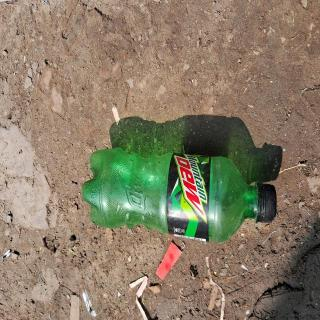Plastic-bottle: (79, 142, 291, 264)
